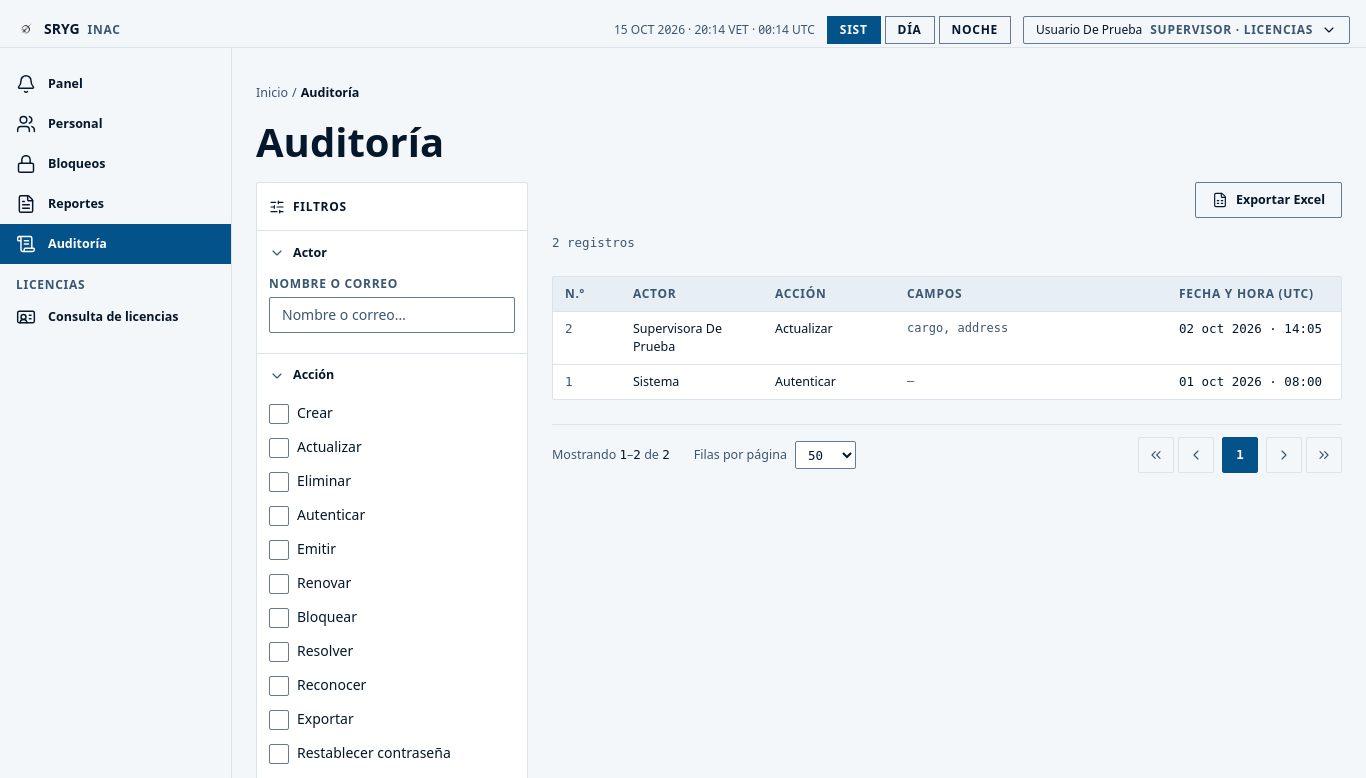
Test: /auditoria (REP-04) › reports a failed export
The image size is (1366, 778).
Expected: the table named "Registro de auditoría" is shown, [553,277,1341,399]
Step 1. Click the button "Exportar Excel" → (1268, 200), box [1195,182,1342,218]
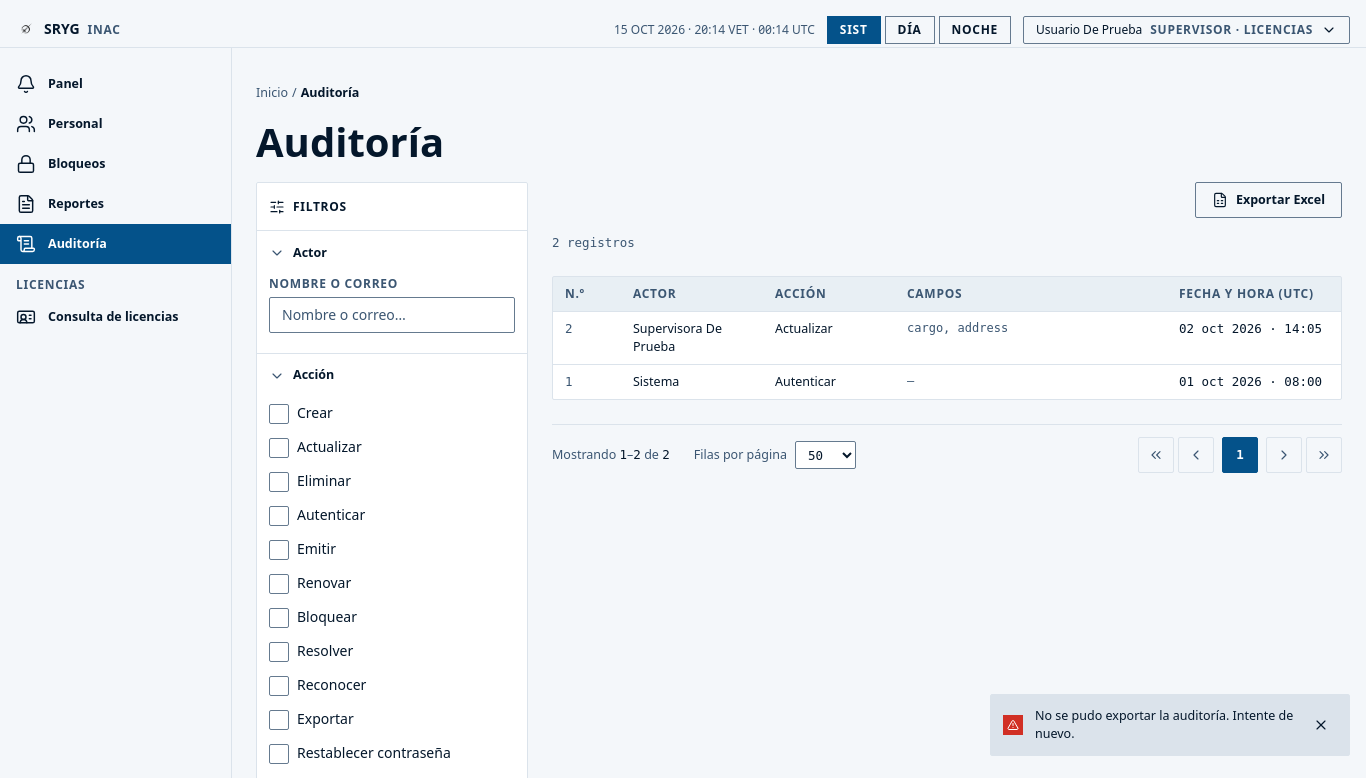
Expected: the text "No se pudo exportar la auditoría. Intente de nuevo." is shown, [1035,707,1294,743]
